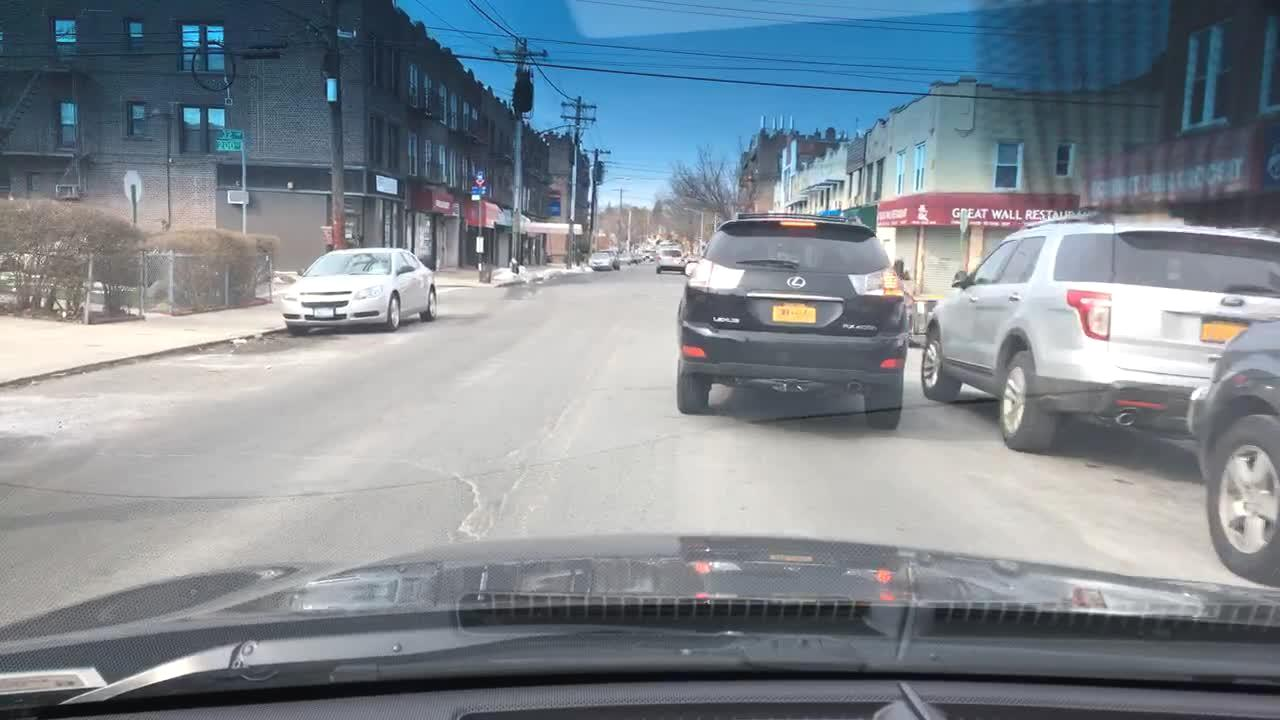ford: (1216, 294, 1250, 310)
lexus: (785, 273, 808, 292)
